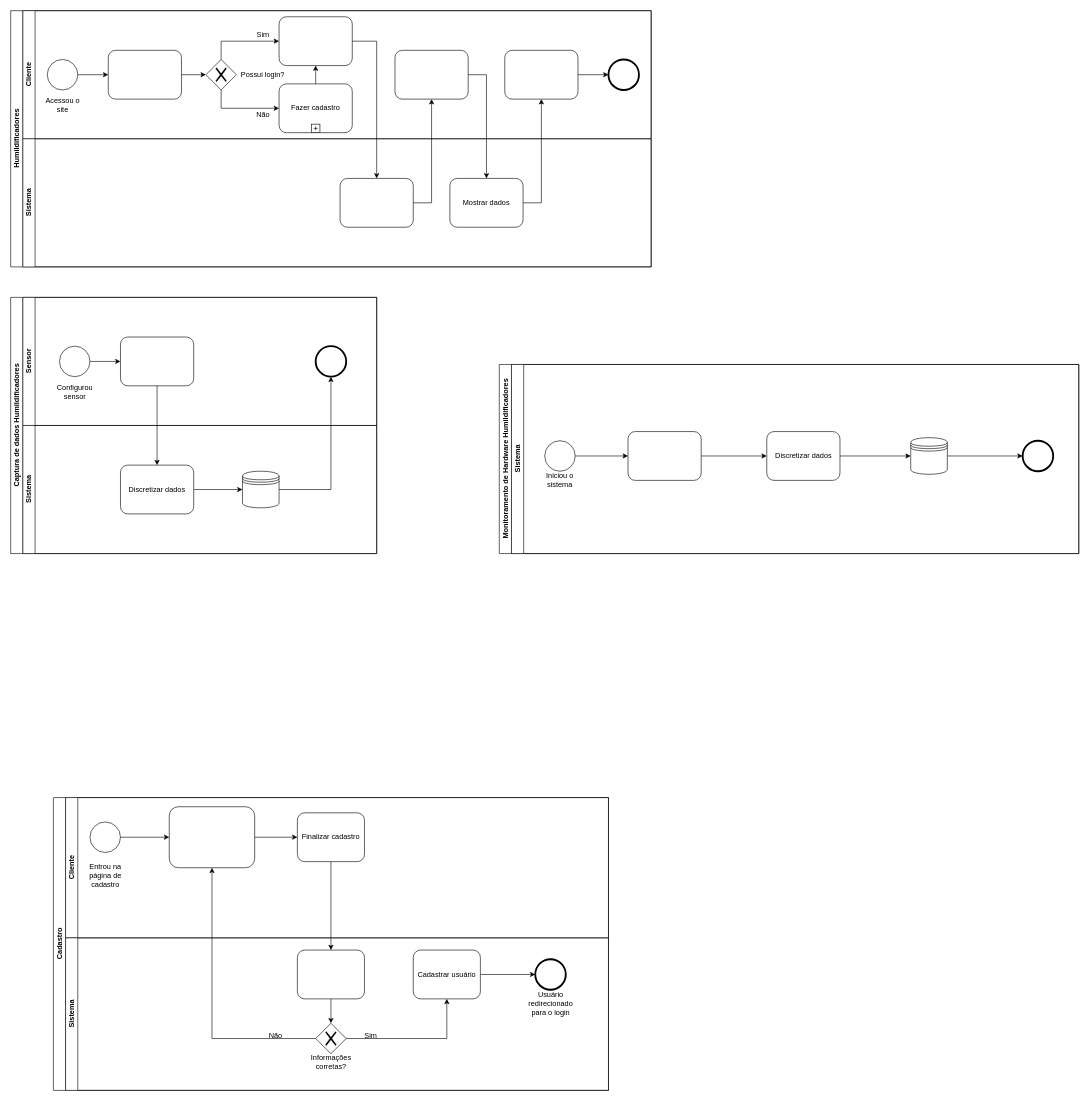
Image size: 1089x1101. Some labels were removed from this diagram. The shapes that lost their labels are listed below. From the top down, each one's centre as x and y in pixels, then its label:
At [315,41]: "Fazer login".
At [144,74]: "Leu as informações do funcionamento do projeto".
At [431,74]: "Selecionar parque".
At [541,74]: "Analisar informações do parque".
At [376,202]: "Listar parques".
At [157,361]: "Iniciou a coleta de dados".
At [664,455]: "Captura os dados do hardware com Open Hardware Monitor".
At [212,837]: "Informar dados pessoais".
At [330,974]: "Validar informações".
